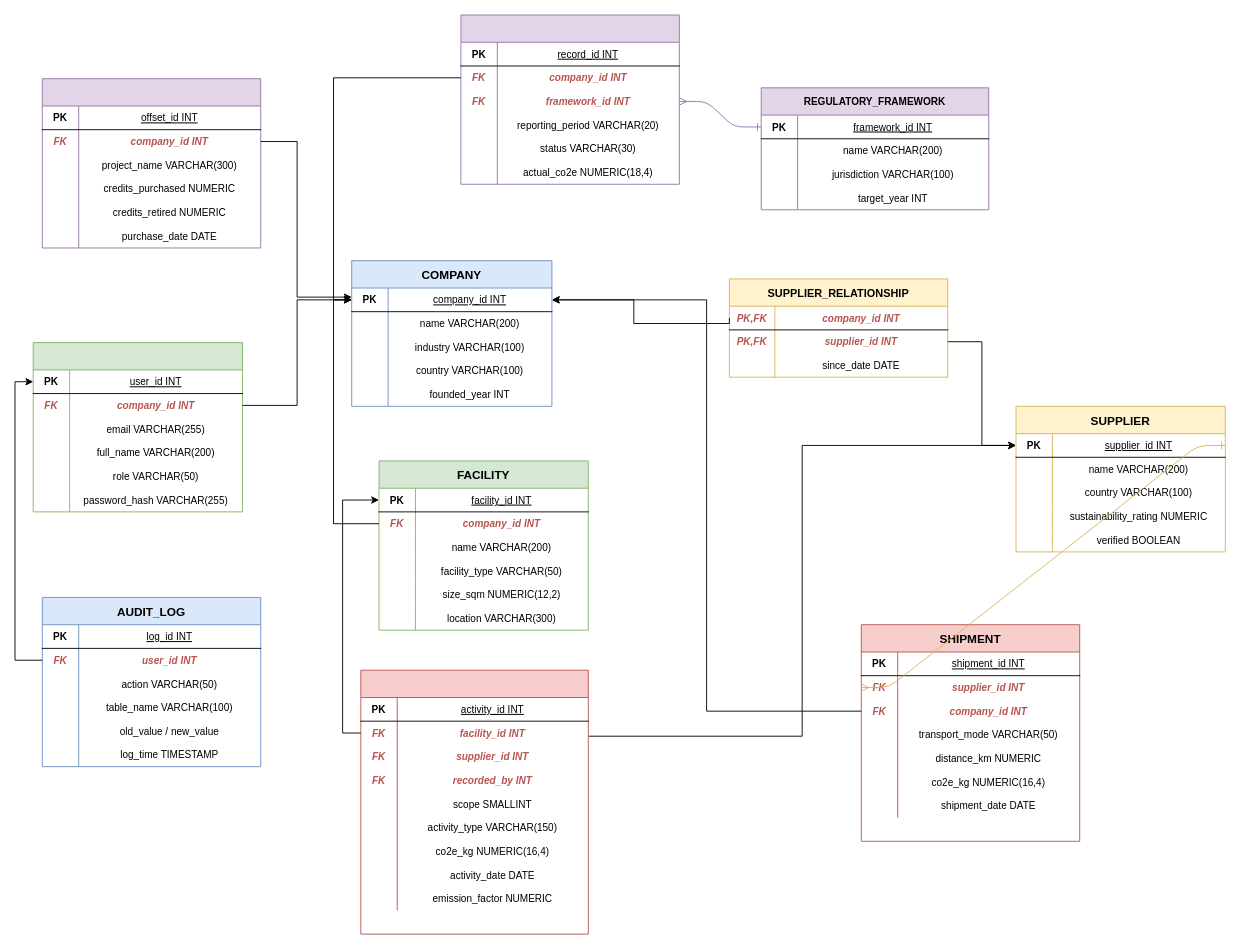
Image size: 1240x949. Some labels were removed from this diagram. The box of each missing label's shape, as (x1, y1, x2, y2) in pixels:
APP_USER: (32, 342, 243, 512)
CARBON_OFFSET: (41, 78, 261, 248)
COMPLIANCE_RECORD: (460, 14, 679, 184)
EMISSION_ACTIVITY: (360, 669, 588, 934)
